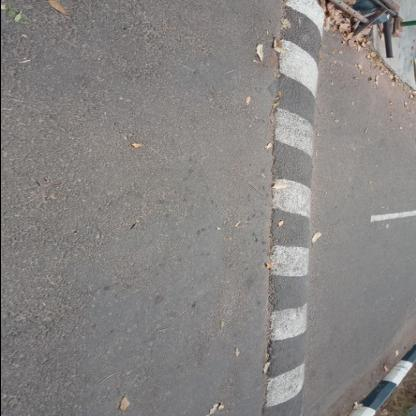speed-bumps: (250, 0, 336, 415)
